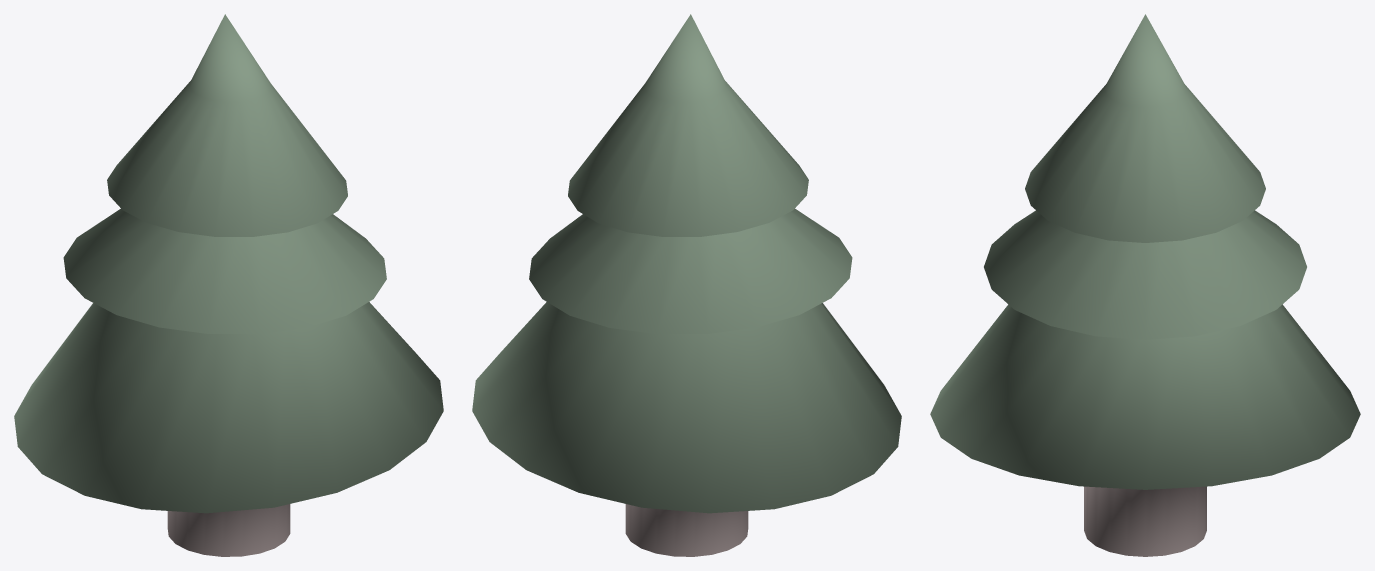
The model's file is PineTree.fbx.
3 renders of one model, left to right at view 1: azimuth 30°, elevation 25°; view 2: azimuth 150°, elevation 25°; view 3: azimuth 270°, elevation 25°, orthographic.
Visible parts, largest first — view 1: PineTree01; view 2: PineTree01; view 3: PineTree01.
Part boxes in pixels (x1,y1,x2,y2): PineTree01: [14, 14, 443, 556]; PineTree01: [472, 14, 901, 556]; PineTree01: [930, 14, 1360, 556].
Bounding box in the file's own units: 2.31 × 3.06 × 2.32.
